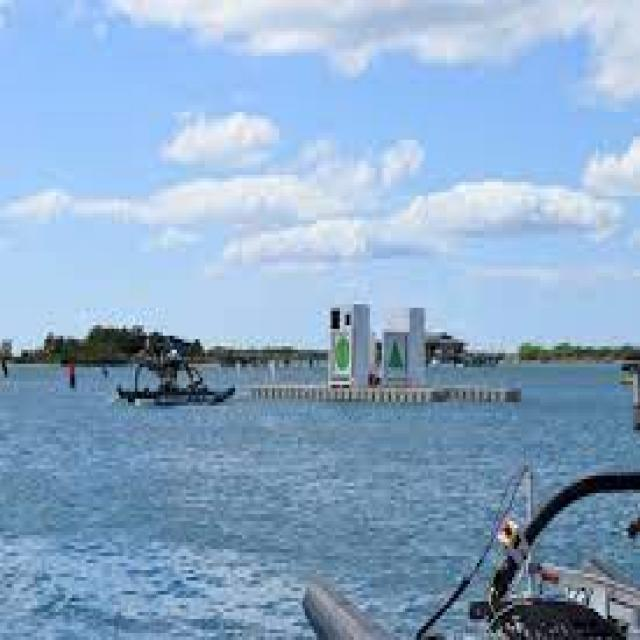Wam_V: (122, 346, 220, 415)
